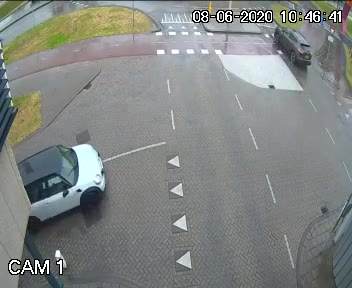car: (0, 131, 125, 224), (267, 21, 324, 75)
